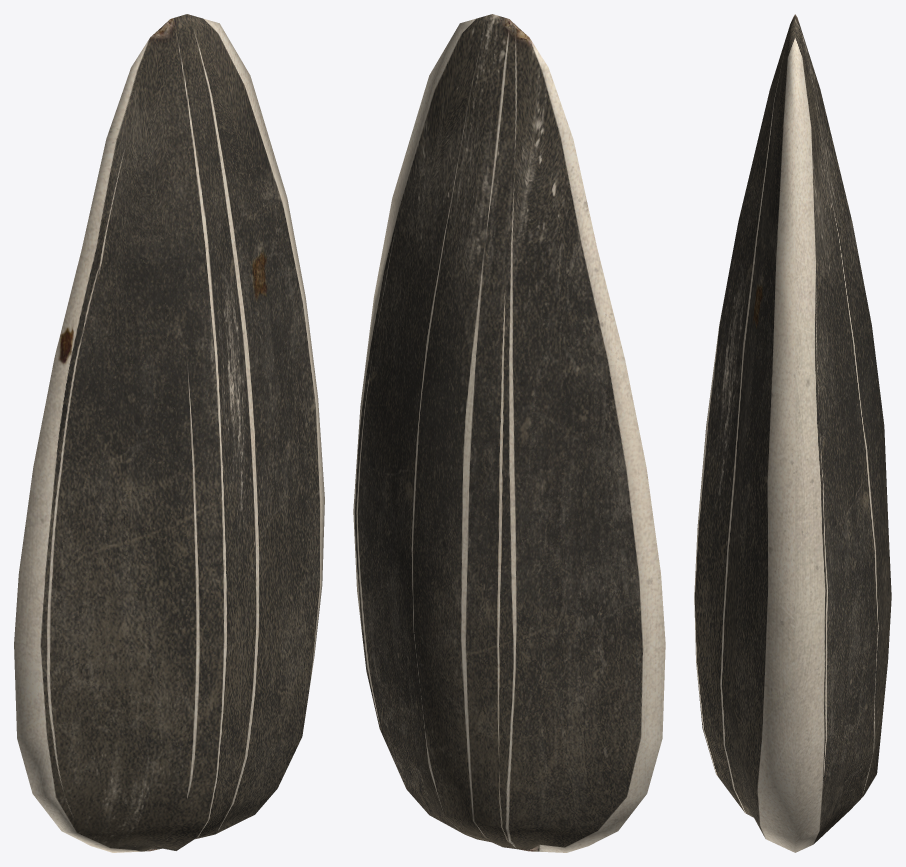
3 renders of one model, left to right at view 1: azimuth 30°, elevation 25°; view 2: azimuth 150°, elevation 25°; view 3: azimuth 270°, elevation 25°, orthographic.
Visible parts, largest first — view 1: Sunflower_Seed_model; view 2: Sunflower_Seed_model; view 3: Sunflower_Seed_model.
Part boxes in pixels (box(x1,y1,x2,y2)): Sunflower_Seed_model: box(14, 14, 324, 852); Sunflower_Seed_model: box(353, 14, 665, 852); Sunflower_Seed_model: box(694, 14, 891, 852).
Bounding box in the file's own units: 1.43 × 3.63 × 0.7937.
Materials: 1 (1 with a texture image).
